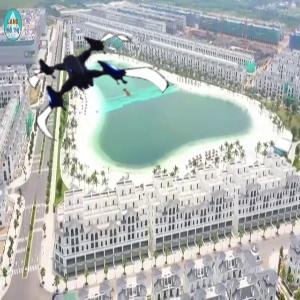drone: (18, 18, 153, 153)
